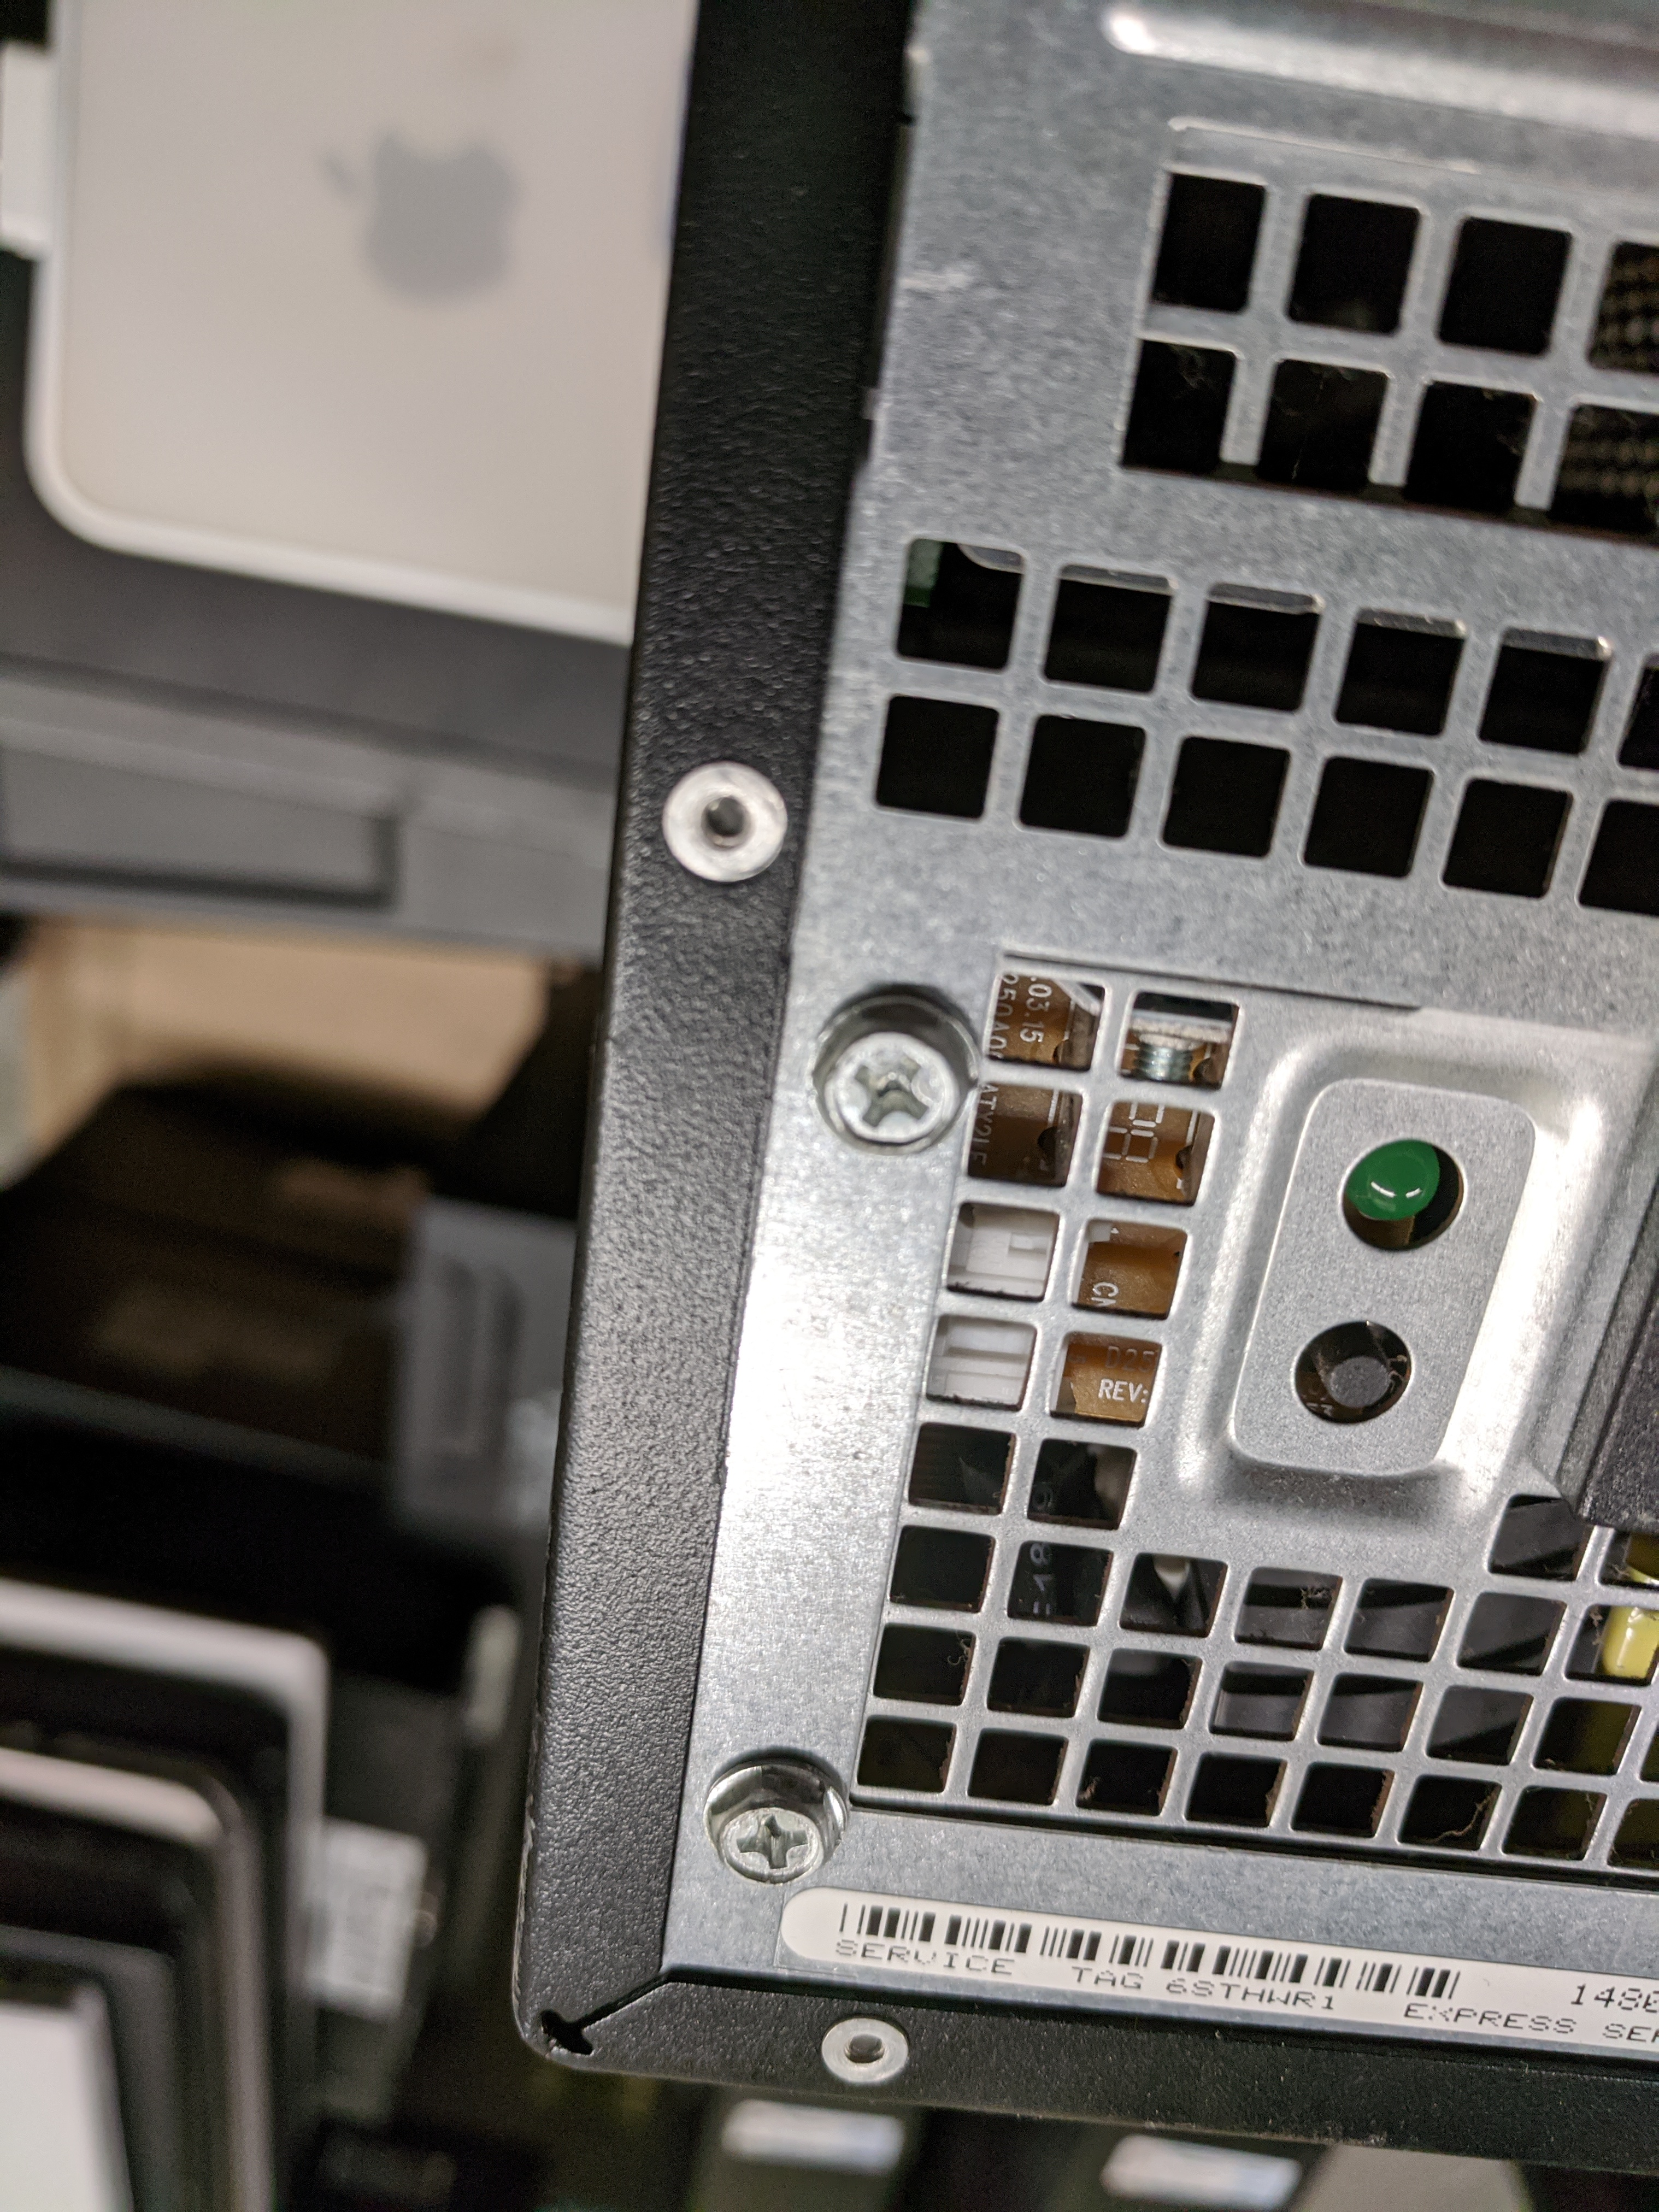cross_recessed_screw: (833, 1001, 962, 1170), (716, 1778, 814, 1886)
